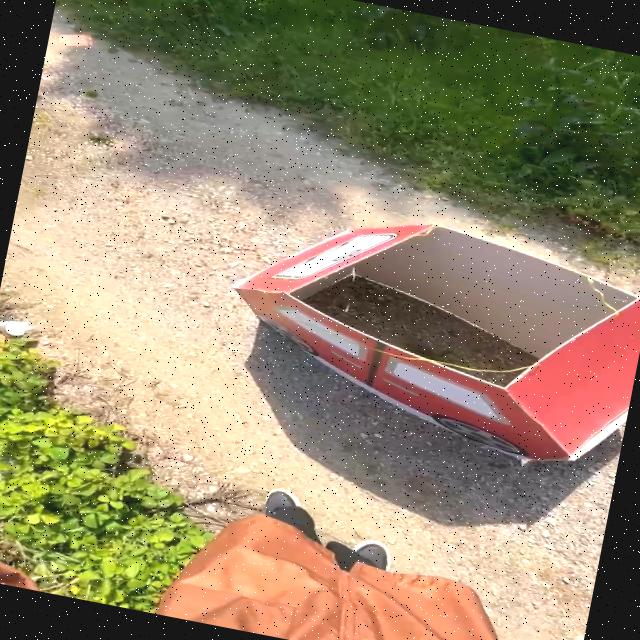red_car: (201, 175, 640, 499)
